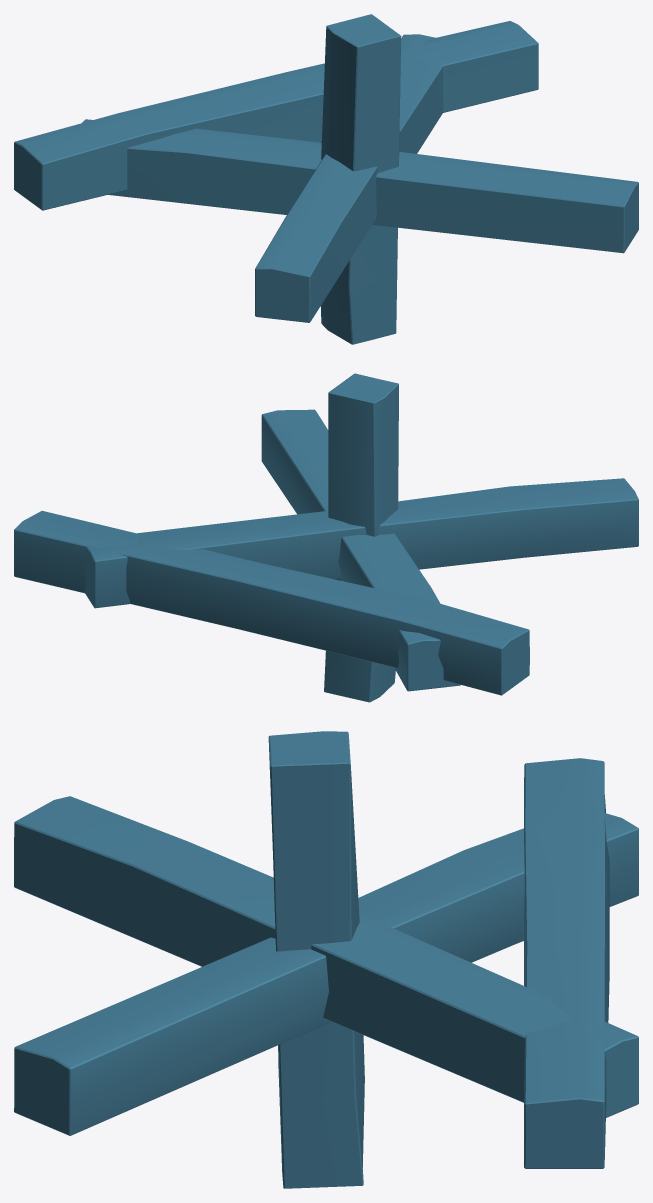
The model's file is Beam_Structure_06A_Lod0.fbx.
3 renders of one model, top to bottom at view 1: azimuth 30°, elevation 25°; view 2: azimuth 150°, elevation 25°; view 3: azimuth 270°, elevation 25°, orthographic. The views are drawn at different scales.
Parts seen in each view (by area): view 1: Beam_Structure_06A_Lod0; view 2: Beam_Structure_06A_Lod0; view 3: Beam_Structure_06A_Lod0.
Boxes of the visible parts, x1,y1,x2,y2 form: Beam_Structure_06A_Lod0: (14, 14, 638, 344); Beam_Structure_06A_Lod0: (14, 373, 638, 702); Beam_Structure_06A_Lod0: (14, 731, 638, 1188).
Bounding box in the file's own units: 300 × 175 × 233.
